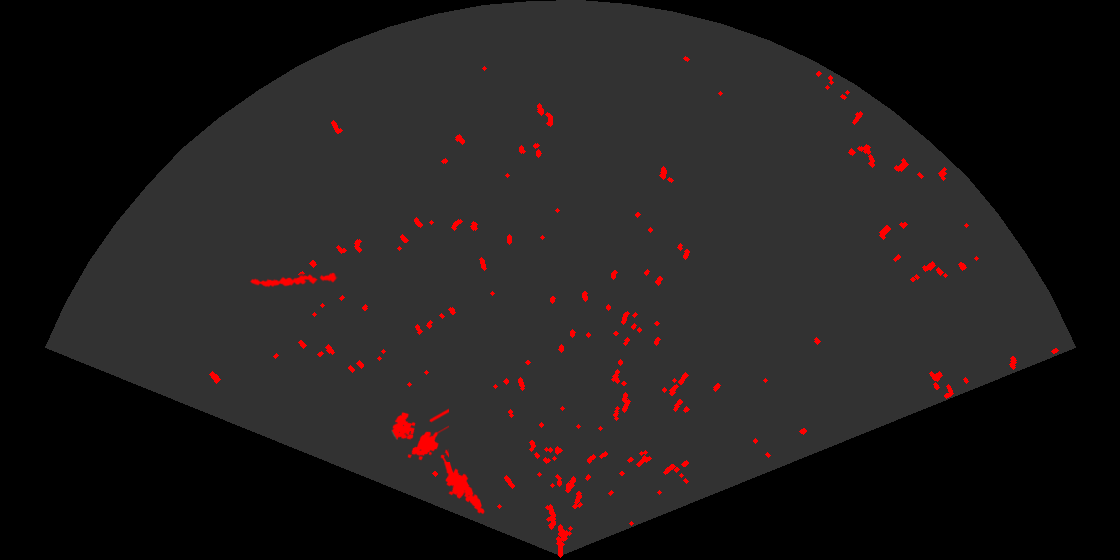cage: (390, 407, 449, 471)
chain: (248, 271, 338, 289)
frogman: (442, 462, 487, 524)
